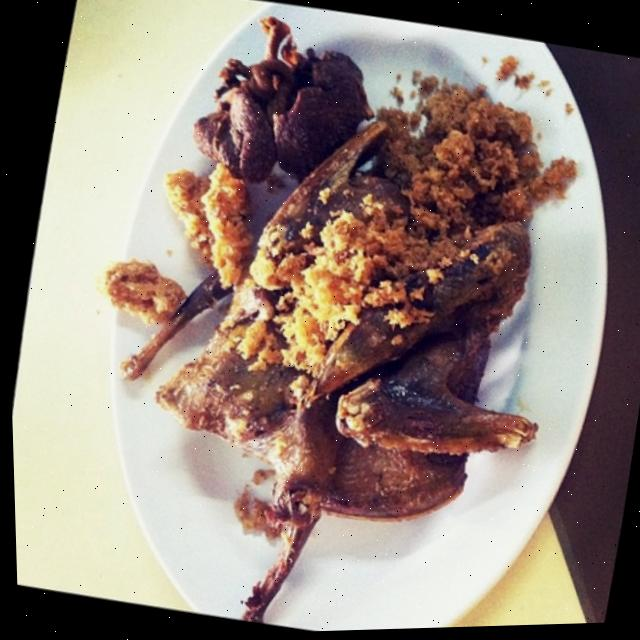鸡肉料理 含炸鸡: (12, 0, 618, 640)
